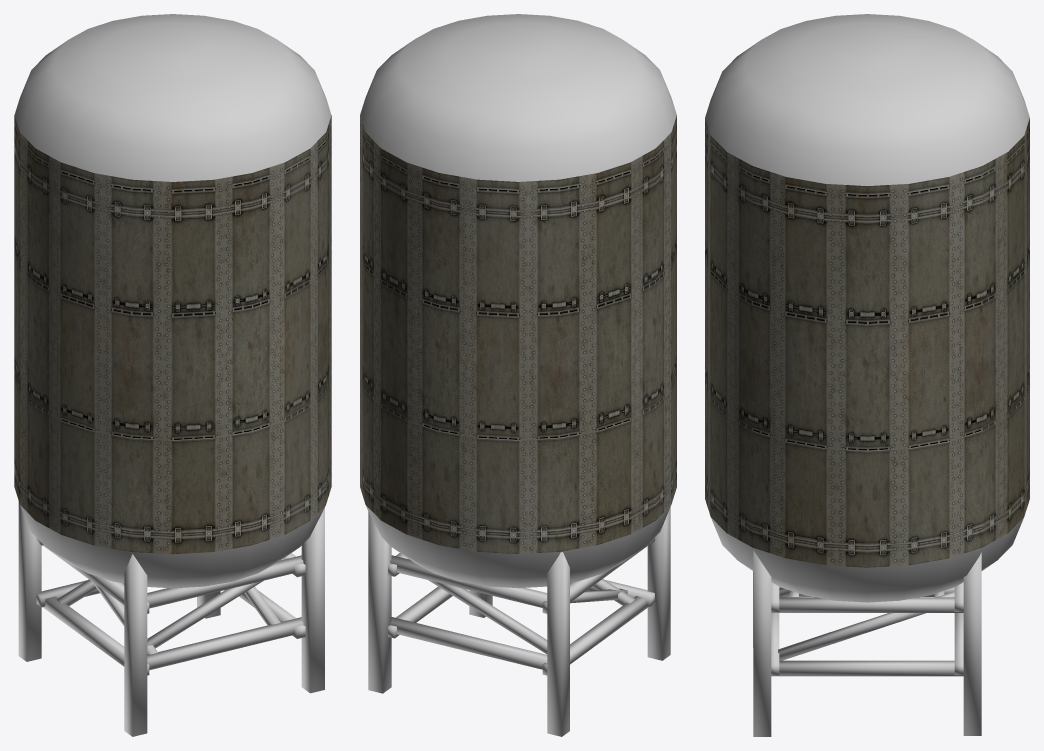
The model's file is silo.fbx.
The picture shows the model from 3 angles, left to right: view 1: azimuth 30°, elevation 25°; view 2: azimuth 150°, elevation 25°; view 3: azimuth 270°, elevation 25°; orthographic projection. The views are drawn at different scales.
Parts seen in each view (by area): view 1: Mesh; view 2: Mesh; view 3: Mesh.
Part boxes in pixels (x1=…): Mesh: x1=14, y1=14, x2=331, y2=736; Mesh: x1=360, y1=14, x2=676, y2=736; Mesh: x1=705, y1=14, x2=1029, y2=736.
Size of the model in its own units: 161 by 350 by 161.
